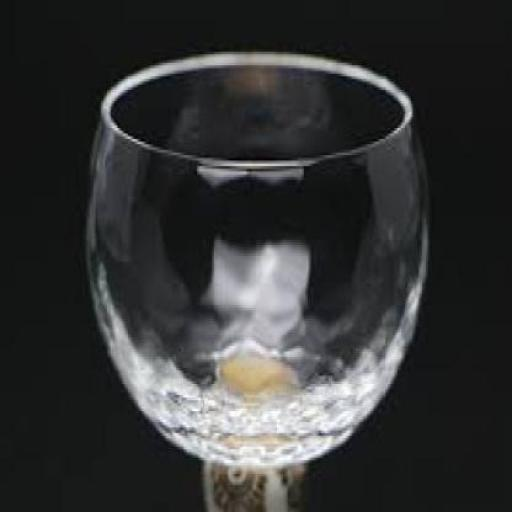glass: (82, 46, 430, 509)
